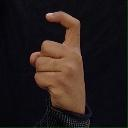hand: (29, 10, 86, 115)
